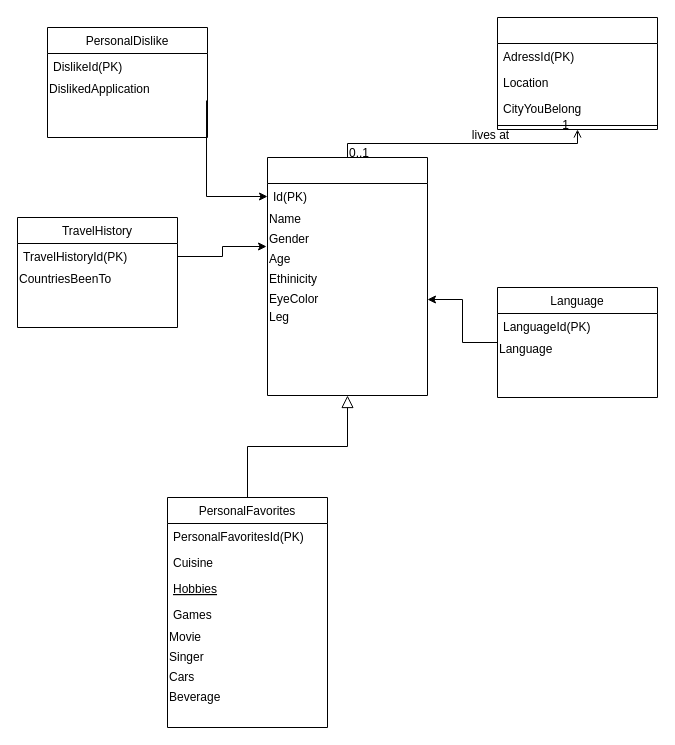
Image size: 675x745. Some labels were removed from this diagram. The box of each missing label's shape, as (x1, y1, x2, y2) in pixels:
Address: (496, 16, 658, 130)
Persons: (266, 156, 428, 396)
